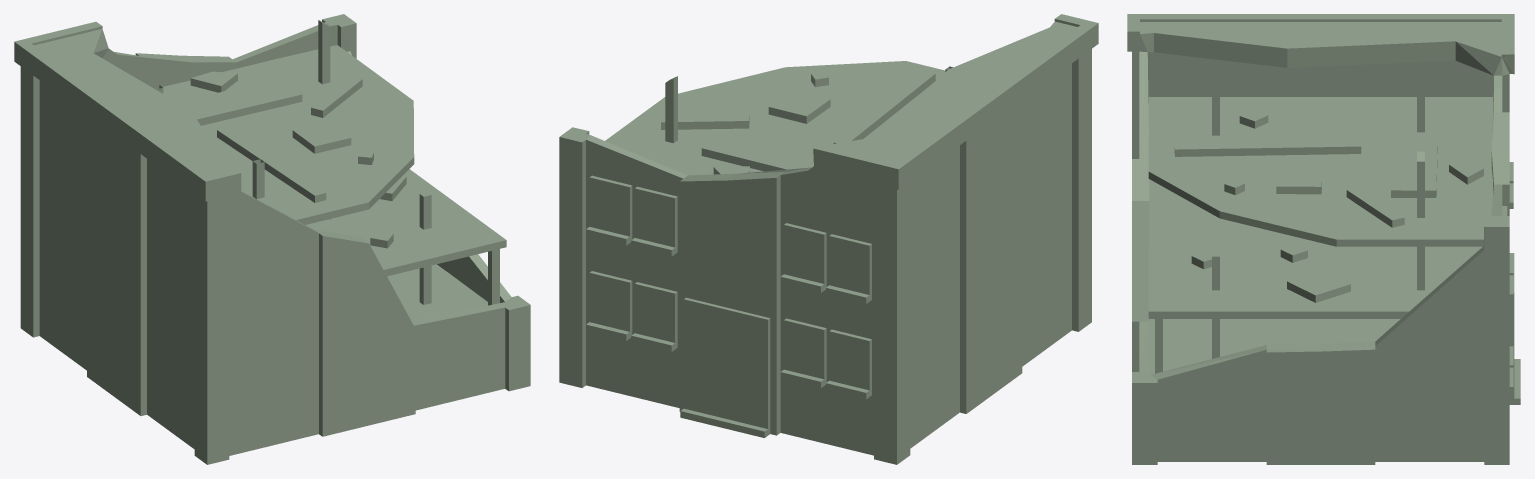
The model's file is apartment_damaged_01.fbx.
3 views of the same model, side by side, from view 1: azimuth 30°, elevation 25°; view 2: azimuth 150°, elevation 25°; view 3: azimuth 270°, elevation 25° (orthographic). The views are drawn at different scales.
Parts seen in each view (by area): view 1: apartment_damaged_01; view 2: apartment_damaged_01; view 3: apartment_damaged_01.
Boxes of the visible parts, <box> form: apartment_damaged_01: <box>14,14,530,464</box>; apartment_damaged_01: <box>559,14,1098,464</box>; apartment_damaged_01: <box>1127,14,1520,464</box>.
Size of the model in its own units: 11.49 by 9.59 by 11.82.
